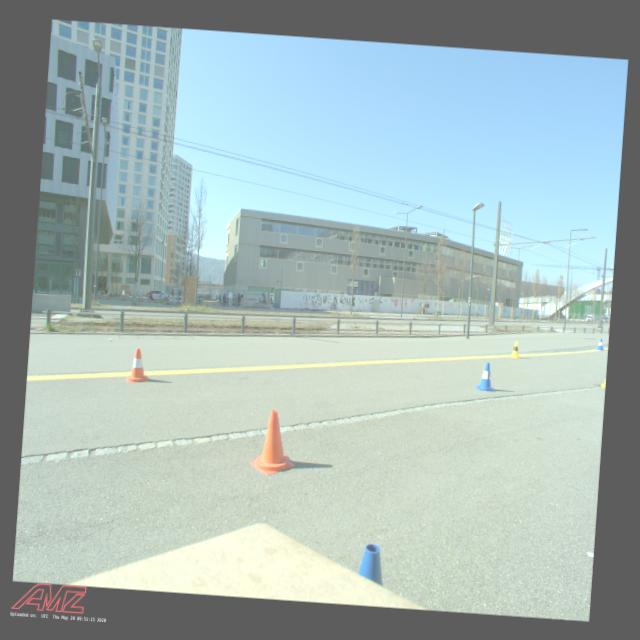blue_cone: (474, 362, 496, 392), (596, 338, 604, 350)
orange_cone: (250, 408, 298, 476), (126, 348, 150, 383)
yellow_cone: (509, 340, 521, 358)
